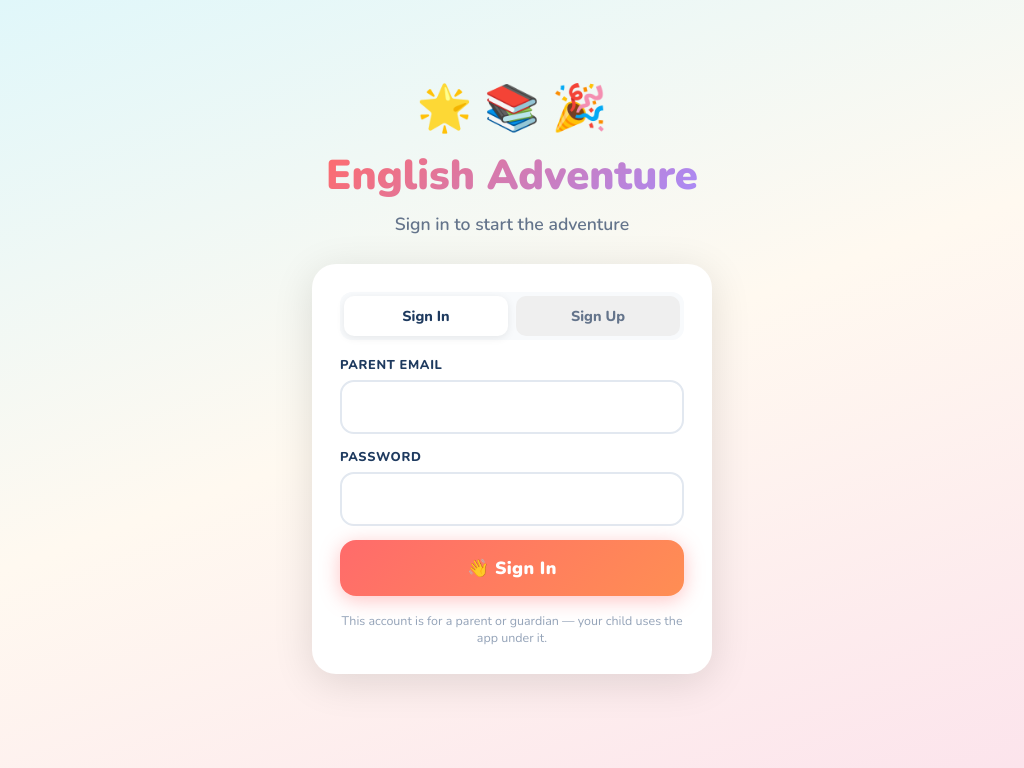
Test: AuthScreen › shows an error message returned by signIn
Type "a@b.com" into the field labelled "Parent Email" at (512, 406), box x1=340 y1=380 x2=684 y2=434
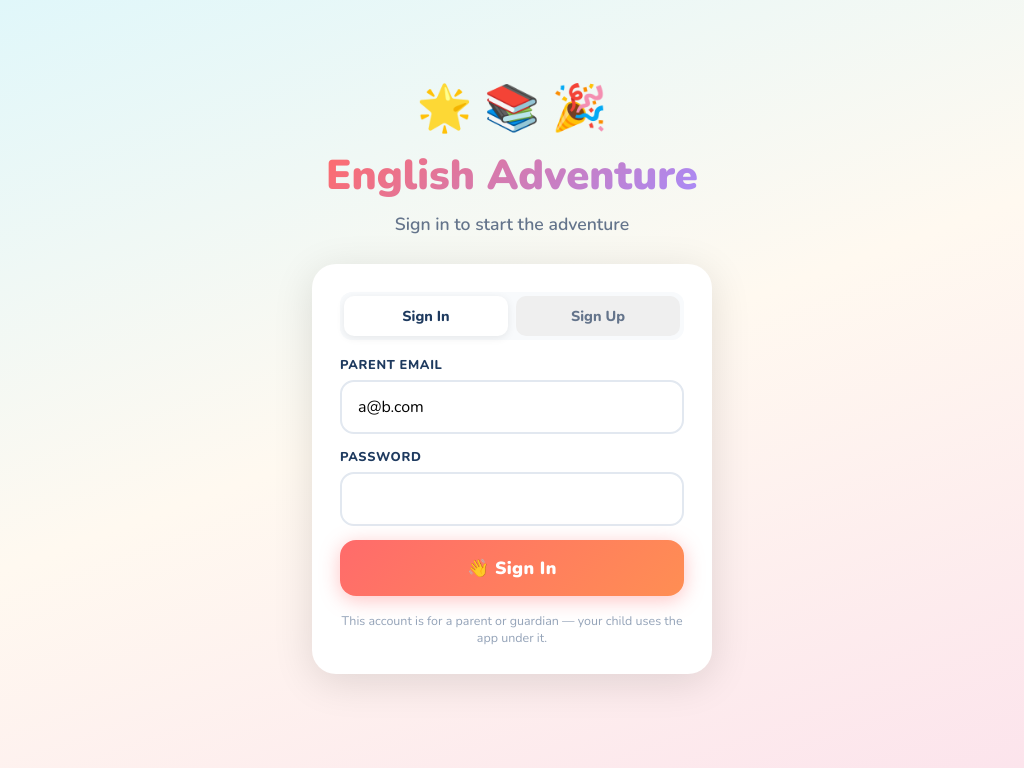
Type "secret123" into the password field labelled "Password" at (512, 498), box x1=340 y1=472 x2=684 y2=526
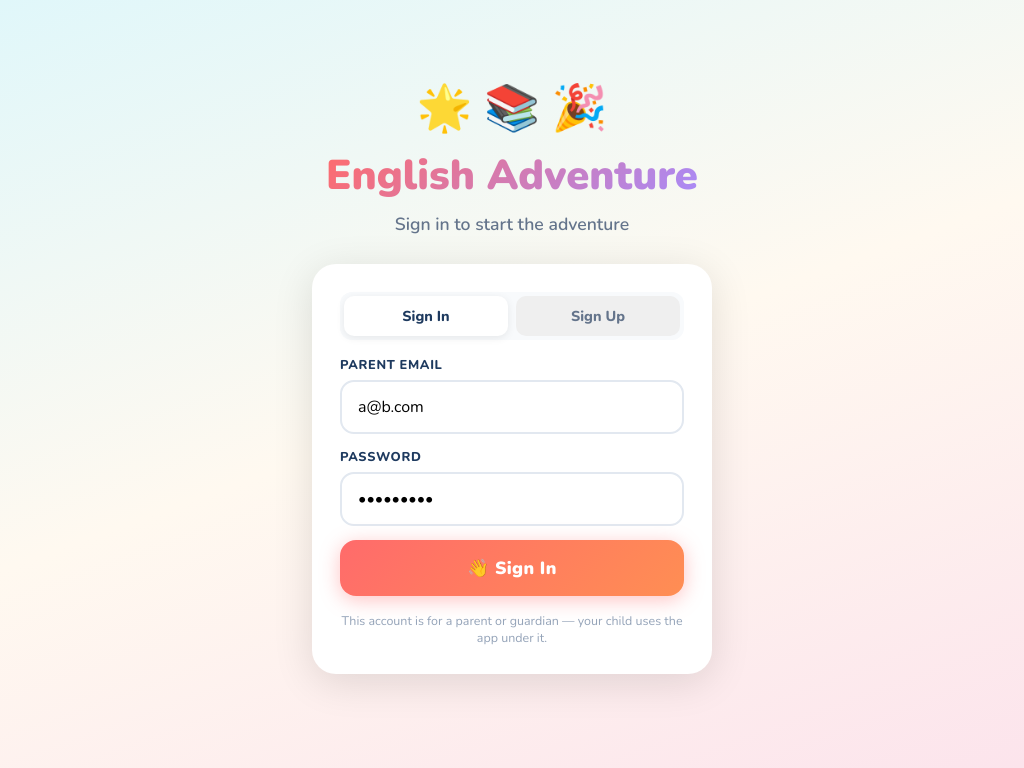
Click the button "👋 Sign In" at (512, 568), box x1=340 y1=540 x2=684 y2=596
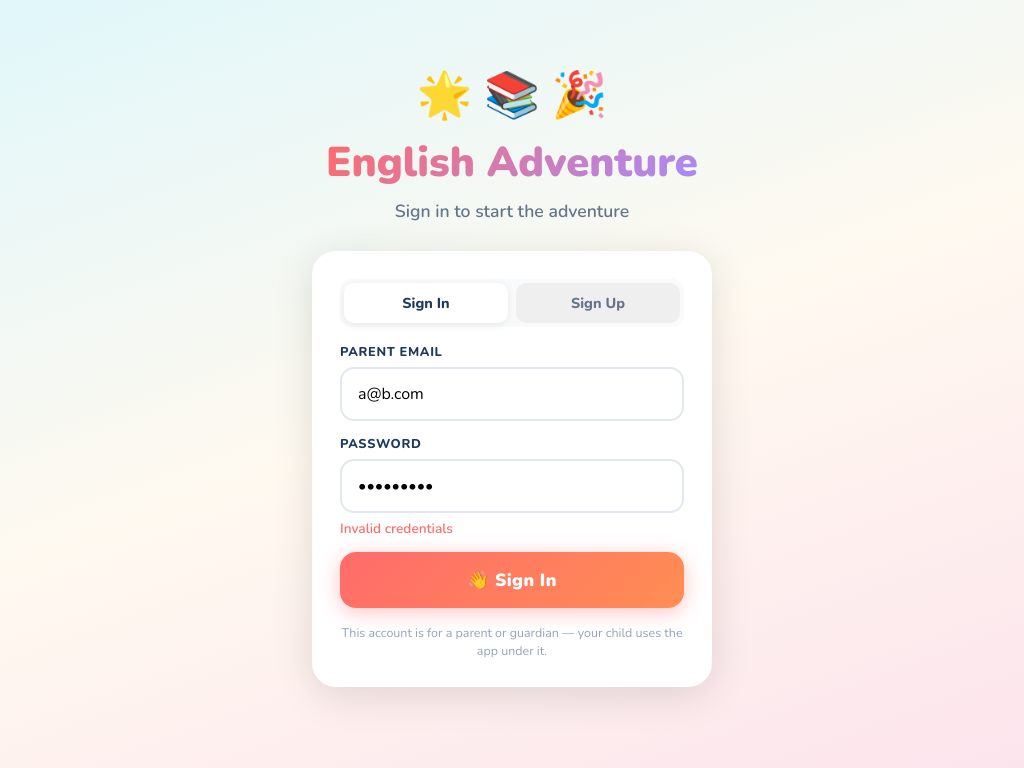
Expected: the button "👋 Sign In" is shown, x1=340 y1=552 x2=684 y2=608
Result: the text "Invalid credentials" is shown at x1=340 y1=519 x2=453 y2=538
